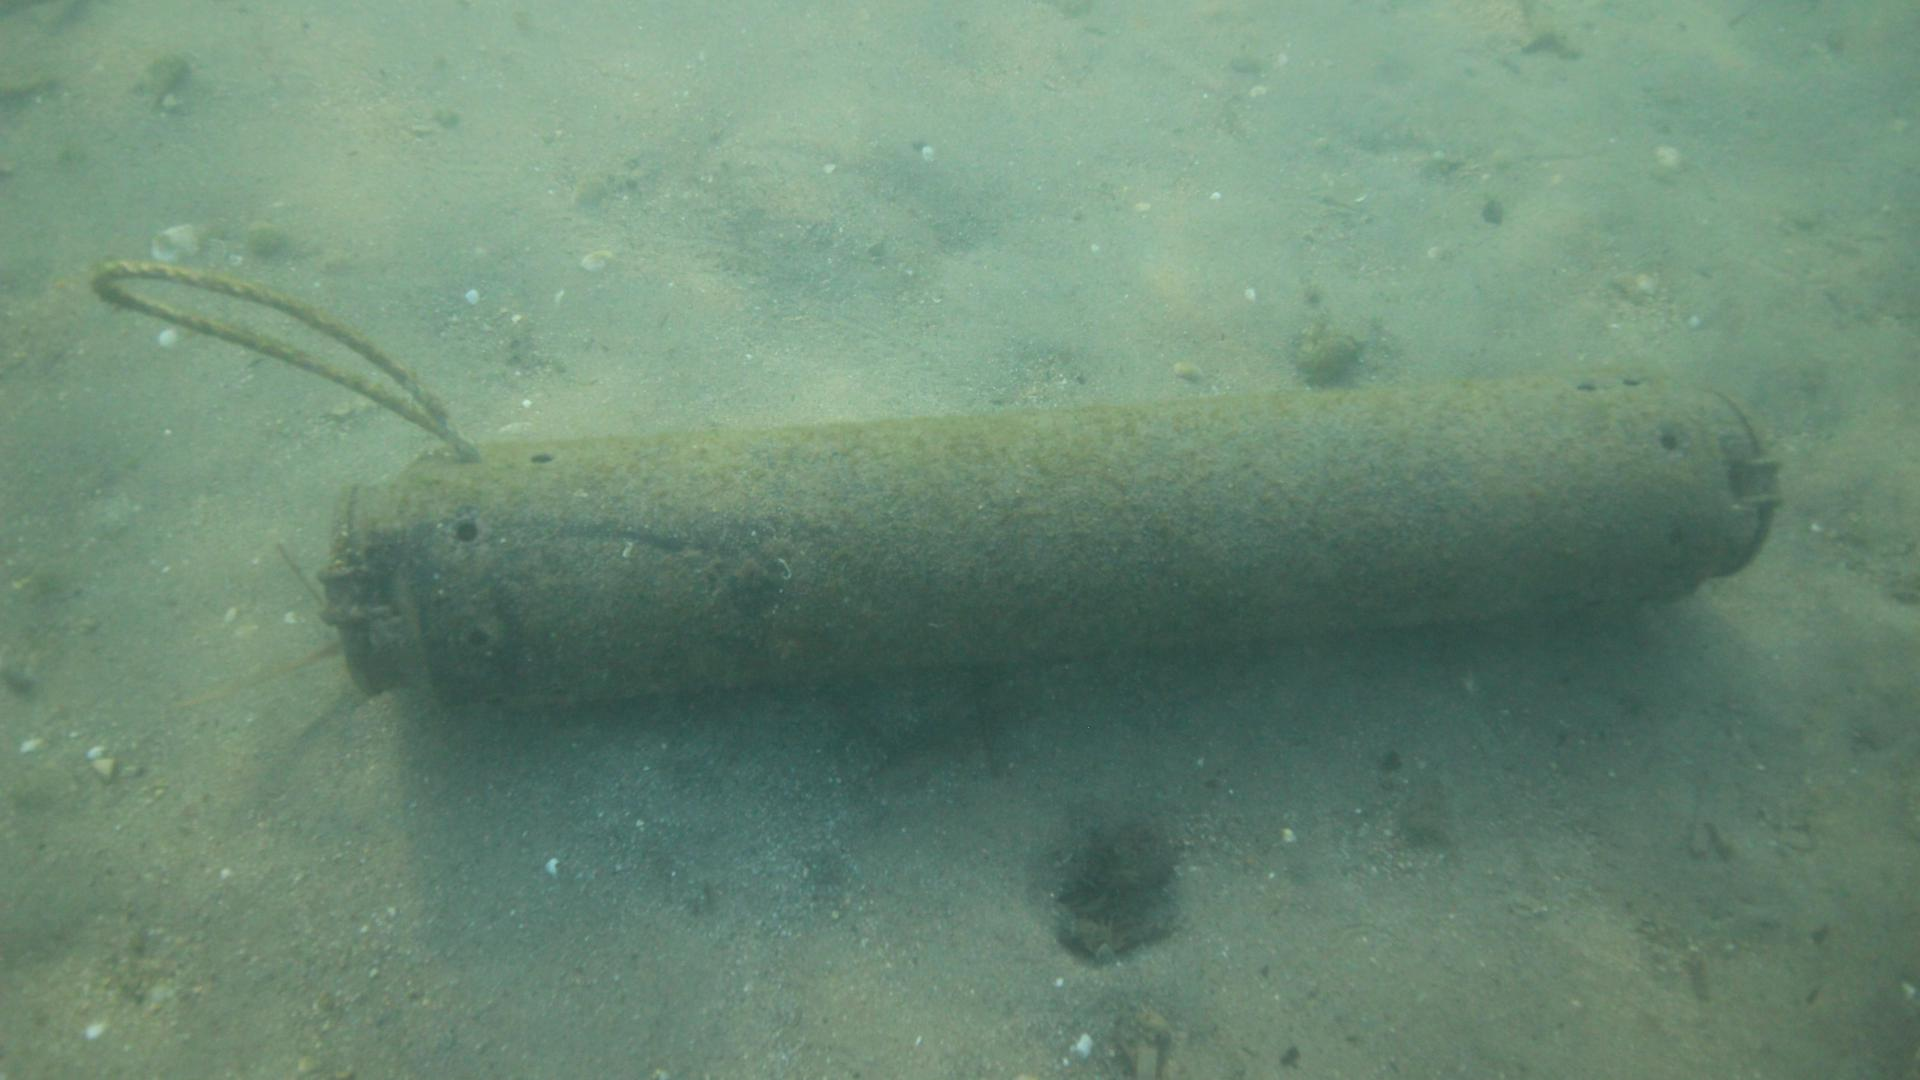eel fish trap: (313, 375, 1782, 709)
rope: (90, 256, 473, 455)
